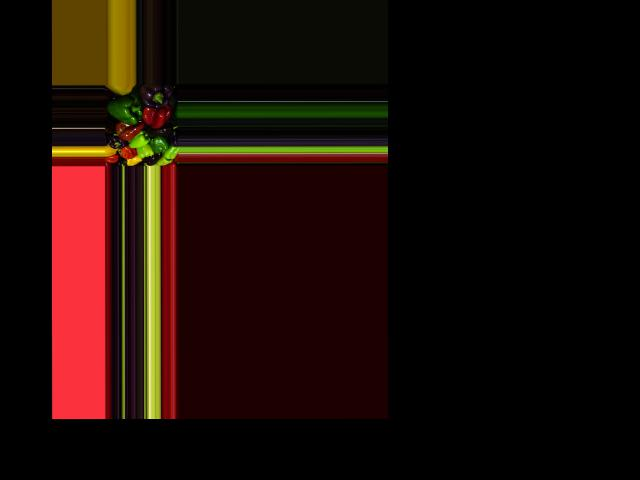bell_pepper: (106, 134, 126, 151)
